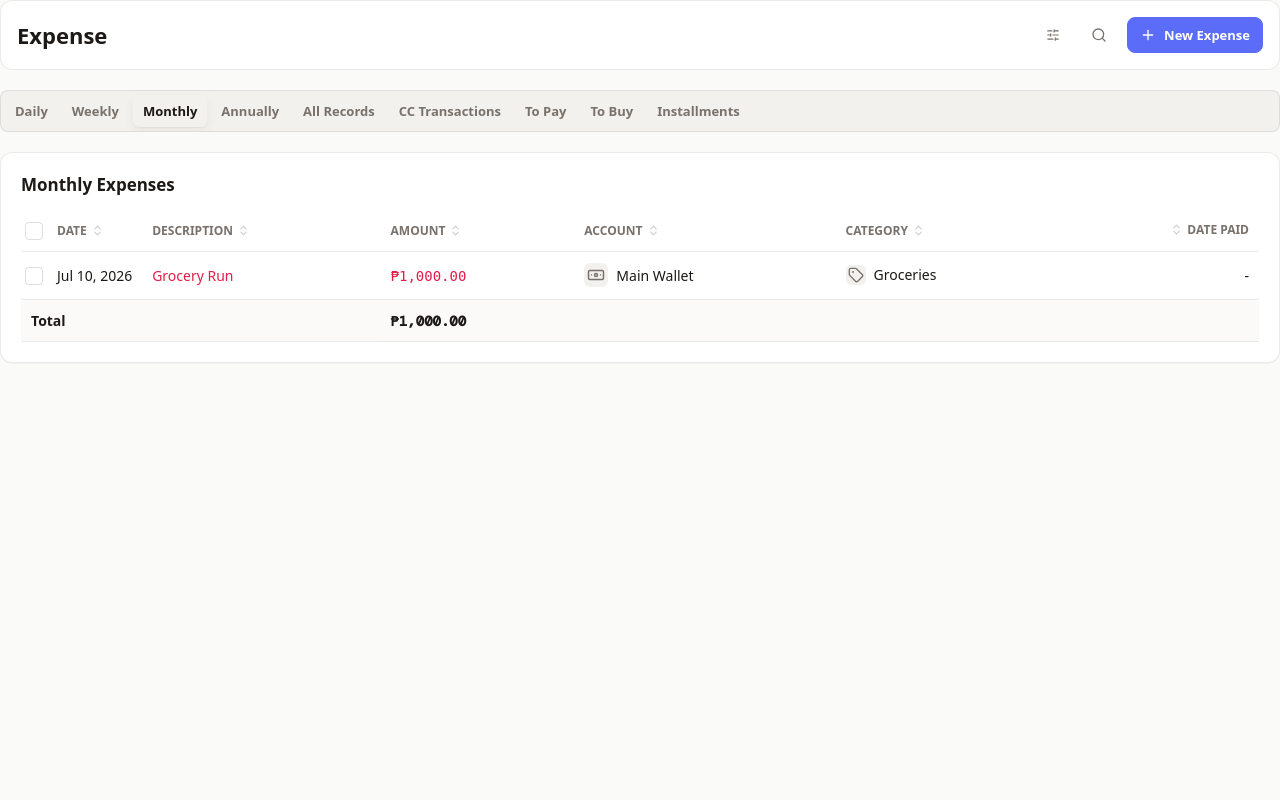
Expense mass edit › applies a patch to the selected record and shows a success notice
Click the button named "Select row": {"x": 34, "y": 276} [25, 266, 43, 284]
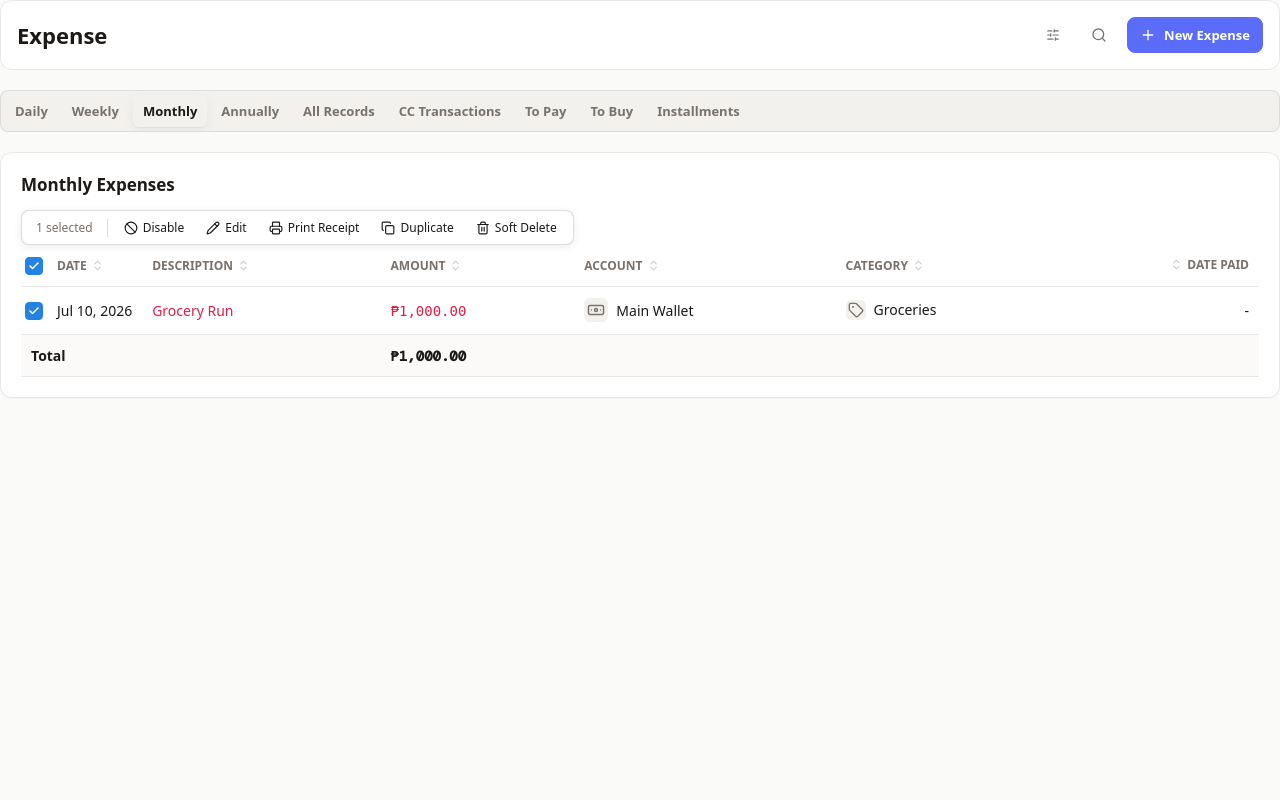
Expected: the text "1 selected" is shown, [36, 219, 93, 236]
Click the button "Edit": {"x": 226, "y": 228} [196, 215, 257, 240]
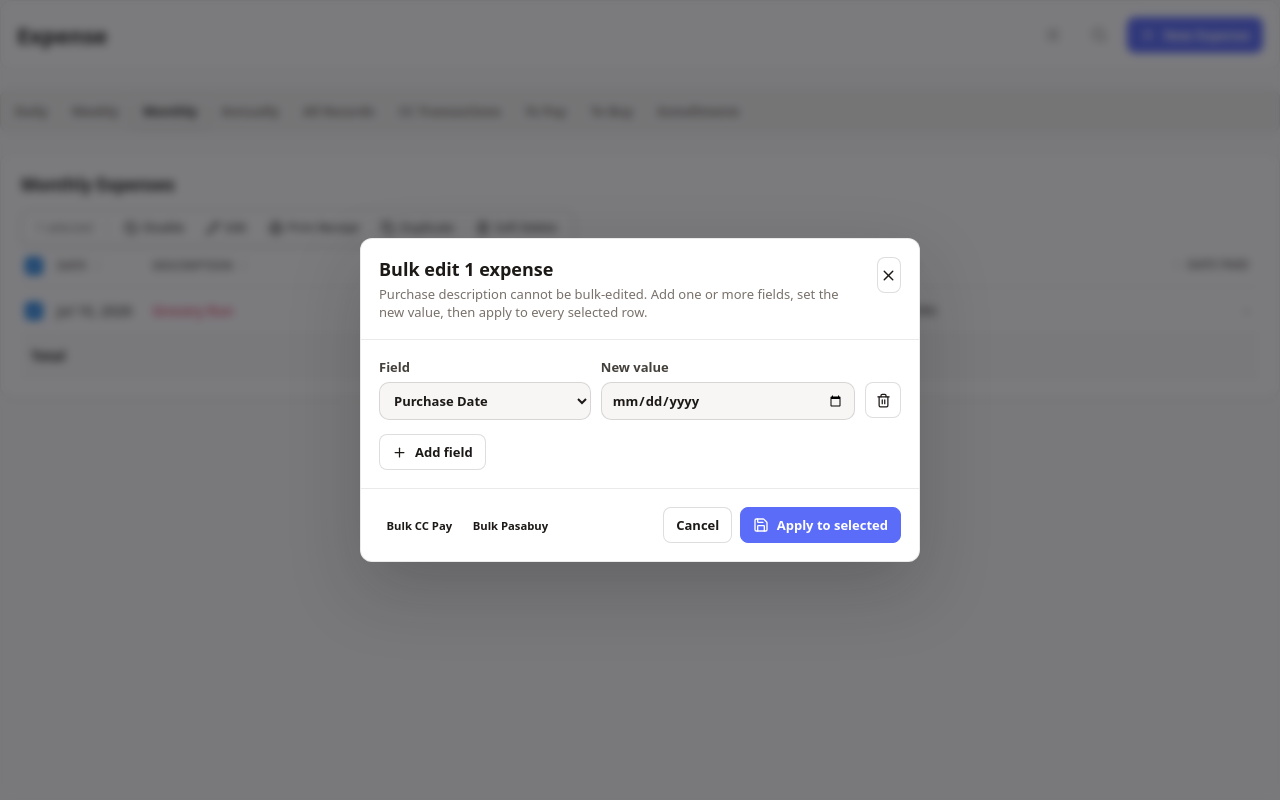
Expected: the heading "Bulk edit 1 expense" is shown, [379, 257, 553, 281]
# Default row starts on "Purchase Date" (the first massEditFields entry) — set a new date.
In the date field labelled "New value": {"x": 728, "y": 401} [601, 382, 855, 420], type "2026-08-01"
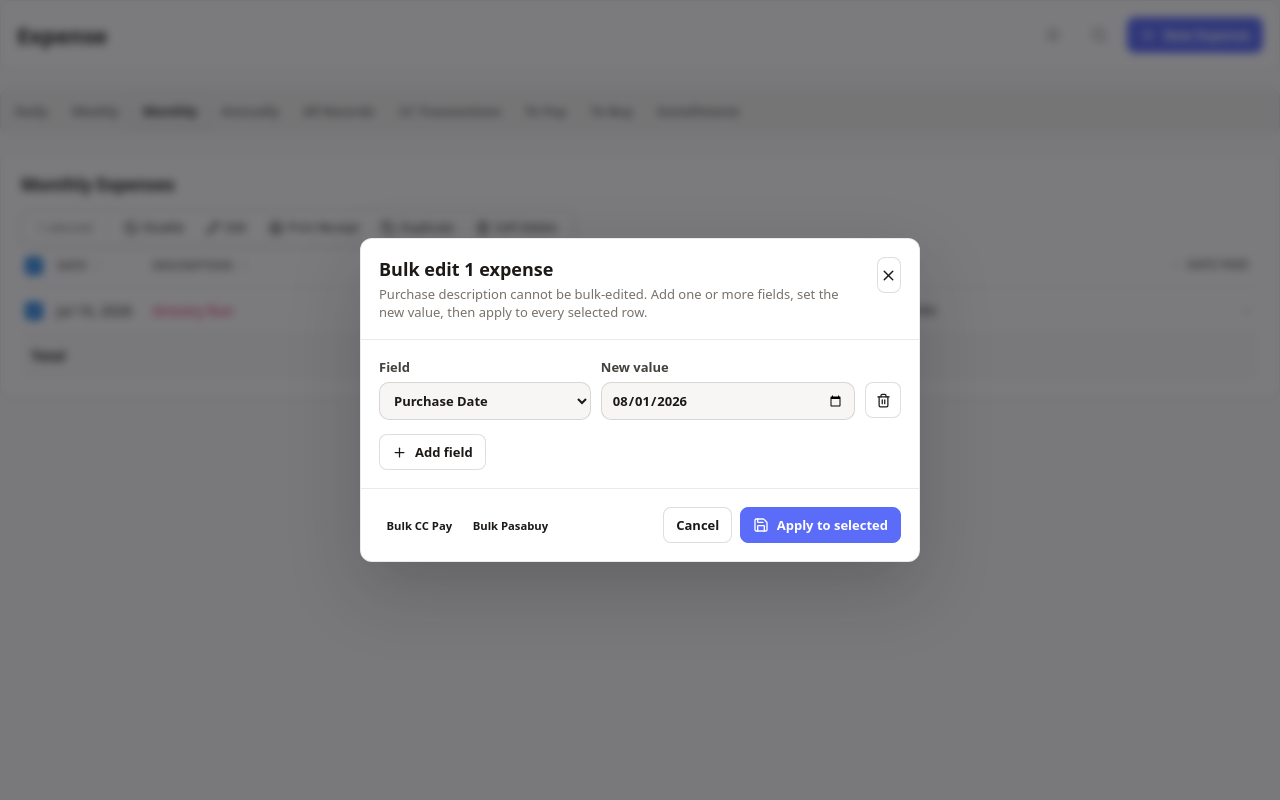
Click the button "Apply to selected": {"x": 820, "y": 525} [740, 507, 901, 543]
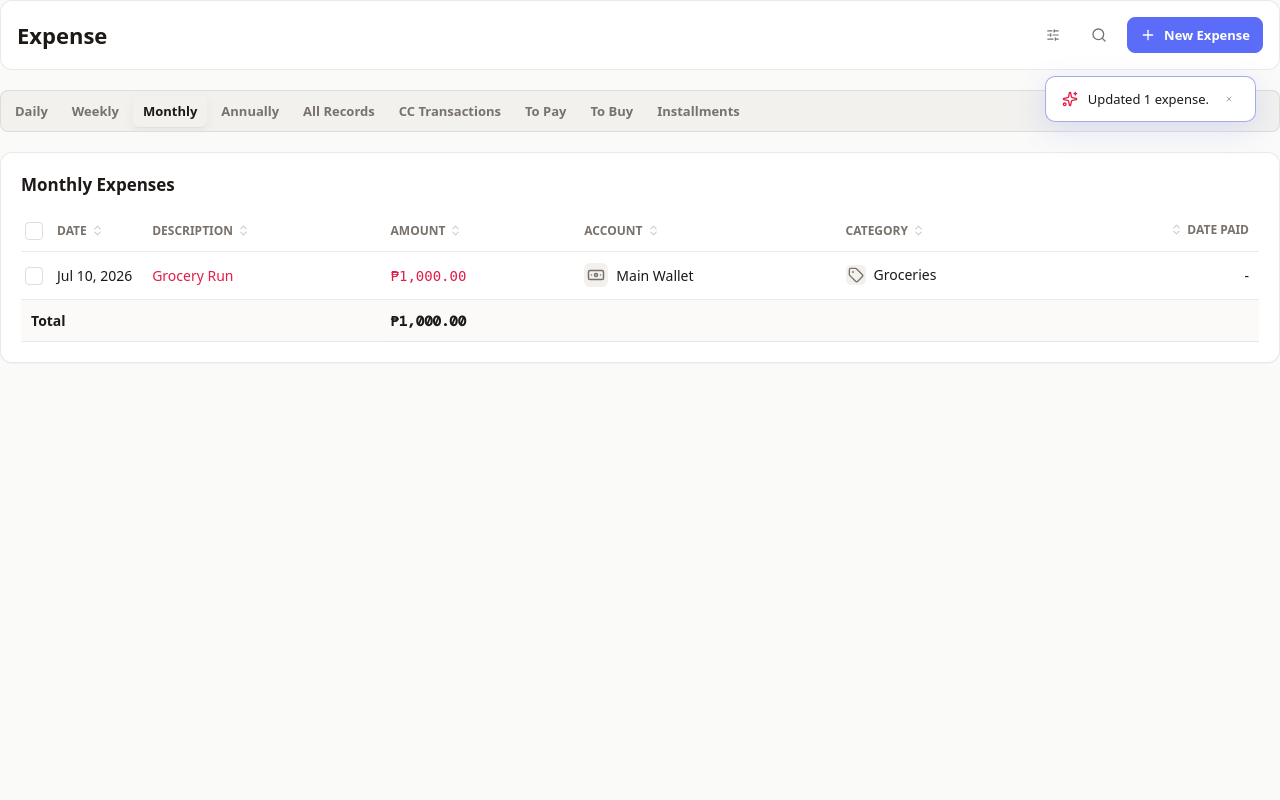
Expected: the heading "Bulk edit 1 expense" is gone
Expected: the text "Updated 1 expense." is shown, [1088, 90, 1209, 108]
